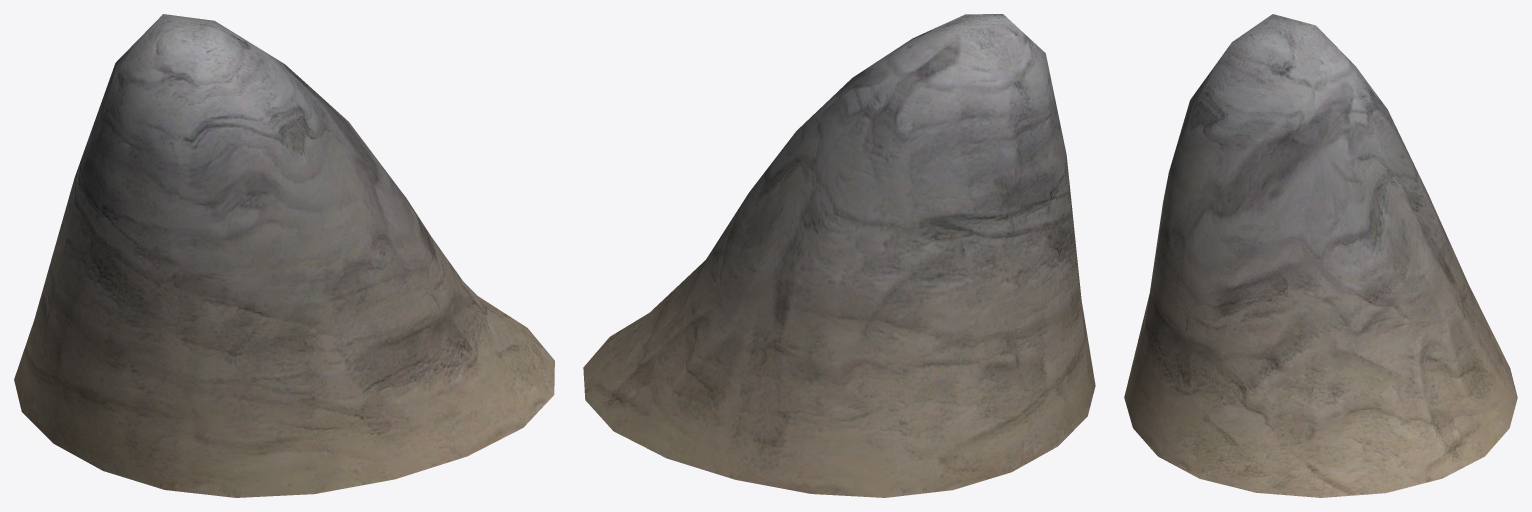
File: Stone5.gltf
3 renders of one model, left to right at view 1: azimuth 30°, elevation 25°; view 2: azimuth 150°, elevation 25°; view 3: azimuth 270°, elevation 25°, orthographic. The views are drawn at different scales.
Visible parts, largest first — view 1: Stone5; view 2: Stone5; view 3: Stone5.
Boxes of the visible parts, x1,y1,x2,y2 form: Stone5: (14,14,554,497); Stone5: (583,14,1095,497); Stone5: (1124,14,1517,497).
Bounding box in the file's own units: 3.28 × 2.69 × 2.92.
Materials: 1 (1 with a texture image).
